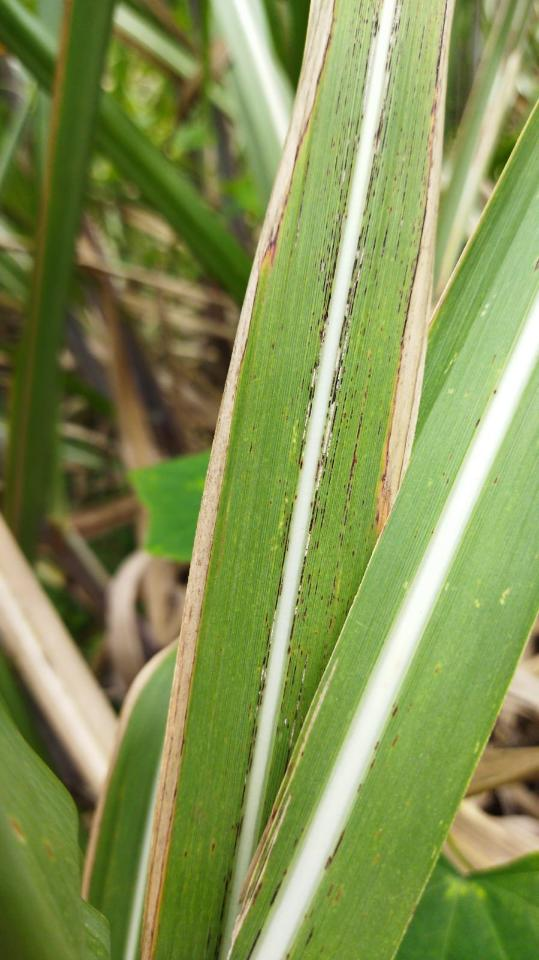Rust: (204, 0, 384, 959), (274, 0, 448, 780), (242, 835, 300, 959), (292, 151, 313, 247), (323, 825, 350, 872), (369, 737, 383, 771), (304, 922, 317, 948), (392, 732, 401, 748), (392, 706, 400, 718)
